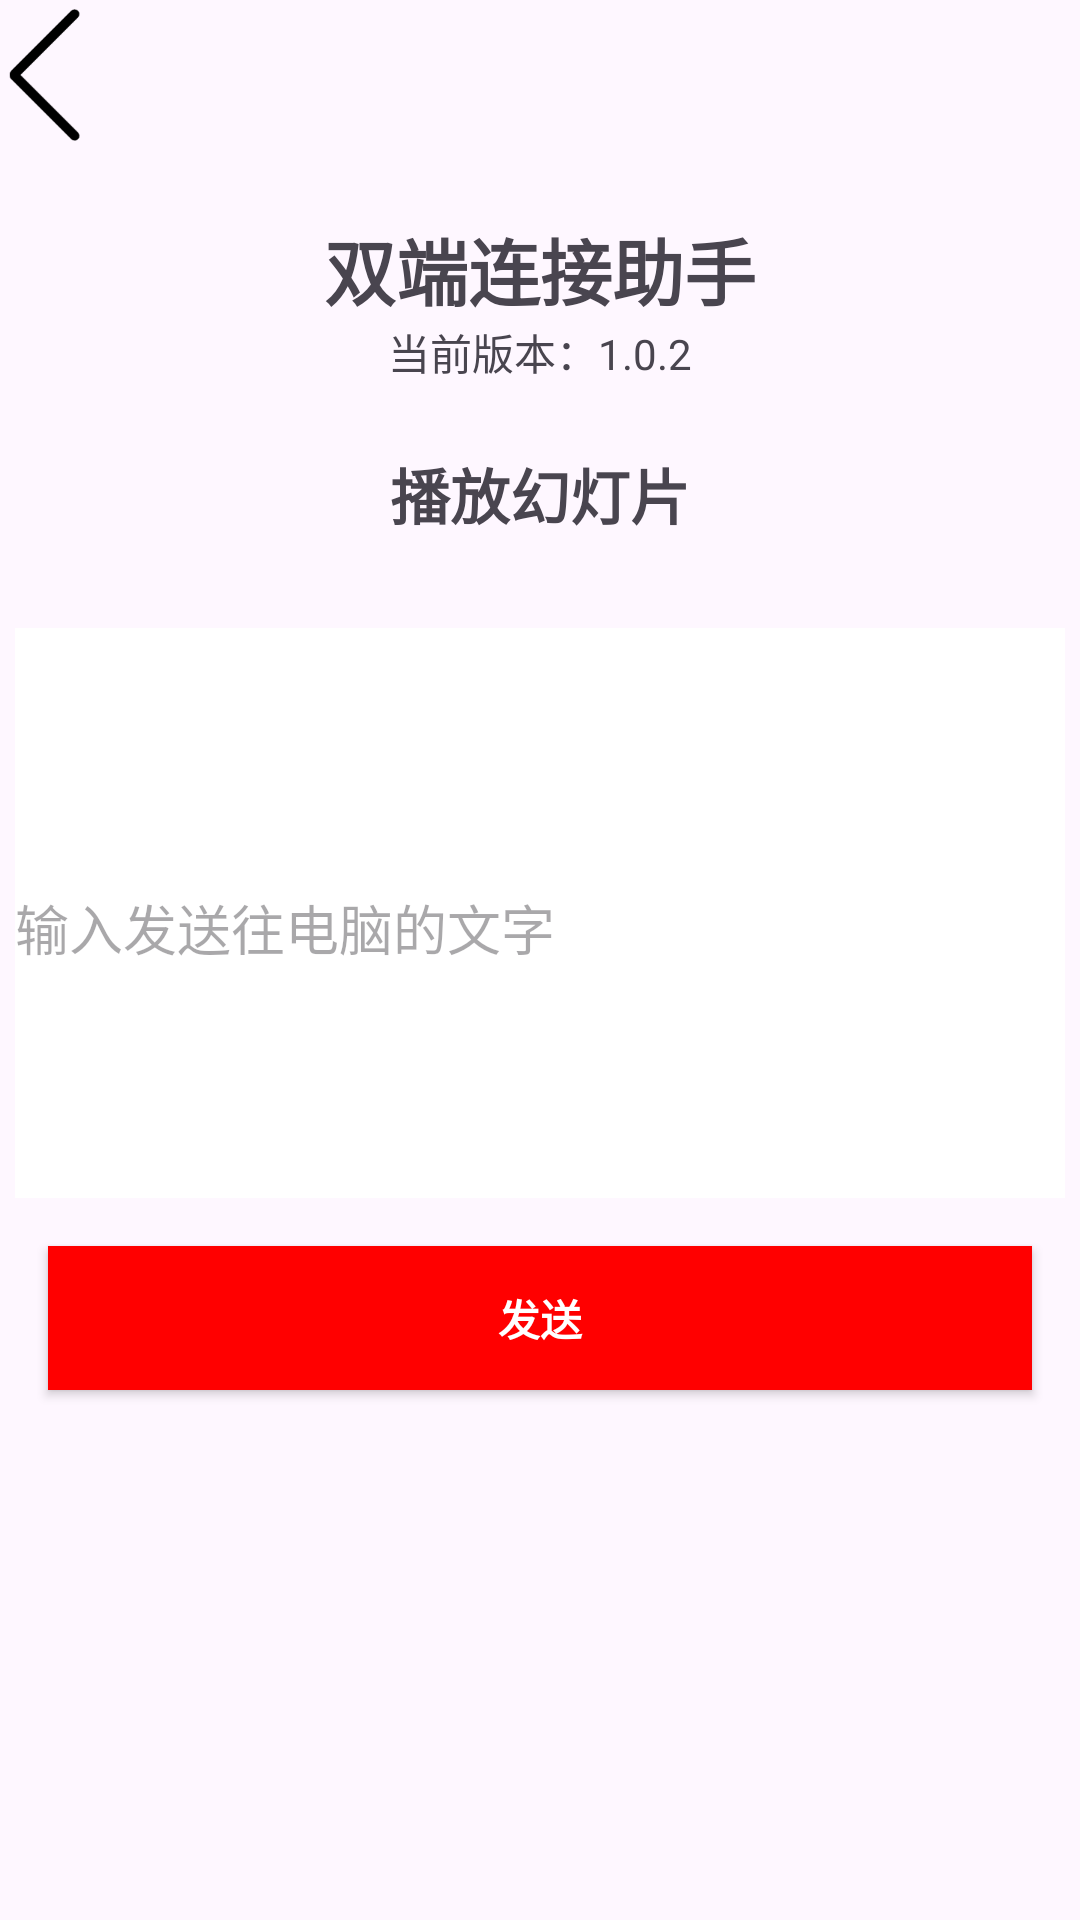

Point at icon controls on the screen. Image size 1080 x 1920, points as [x,y].
back: [44,75]
